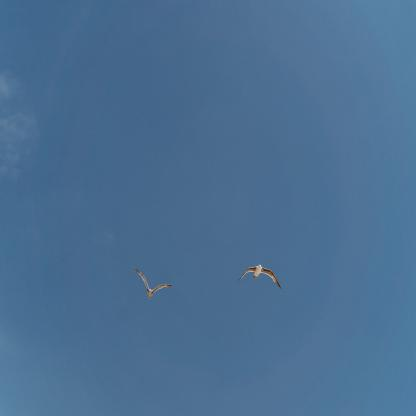bird: (135, 268, 173, 301), (238, 264, 282, 291)
